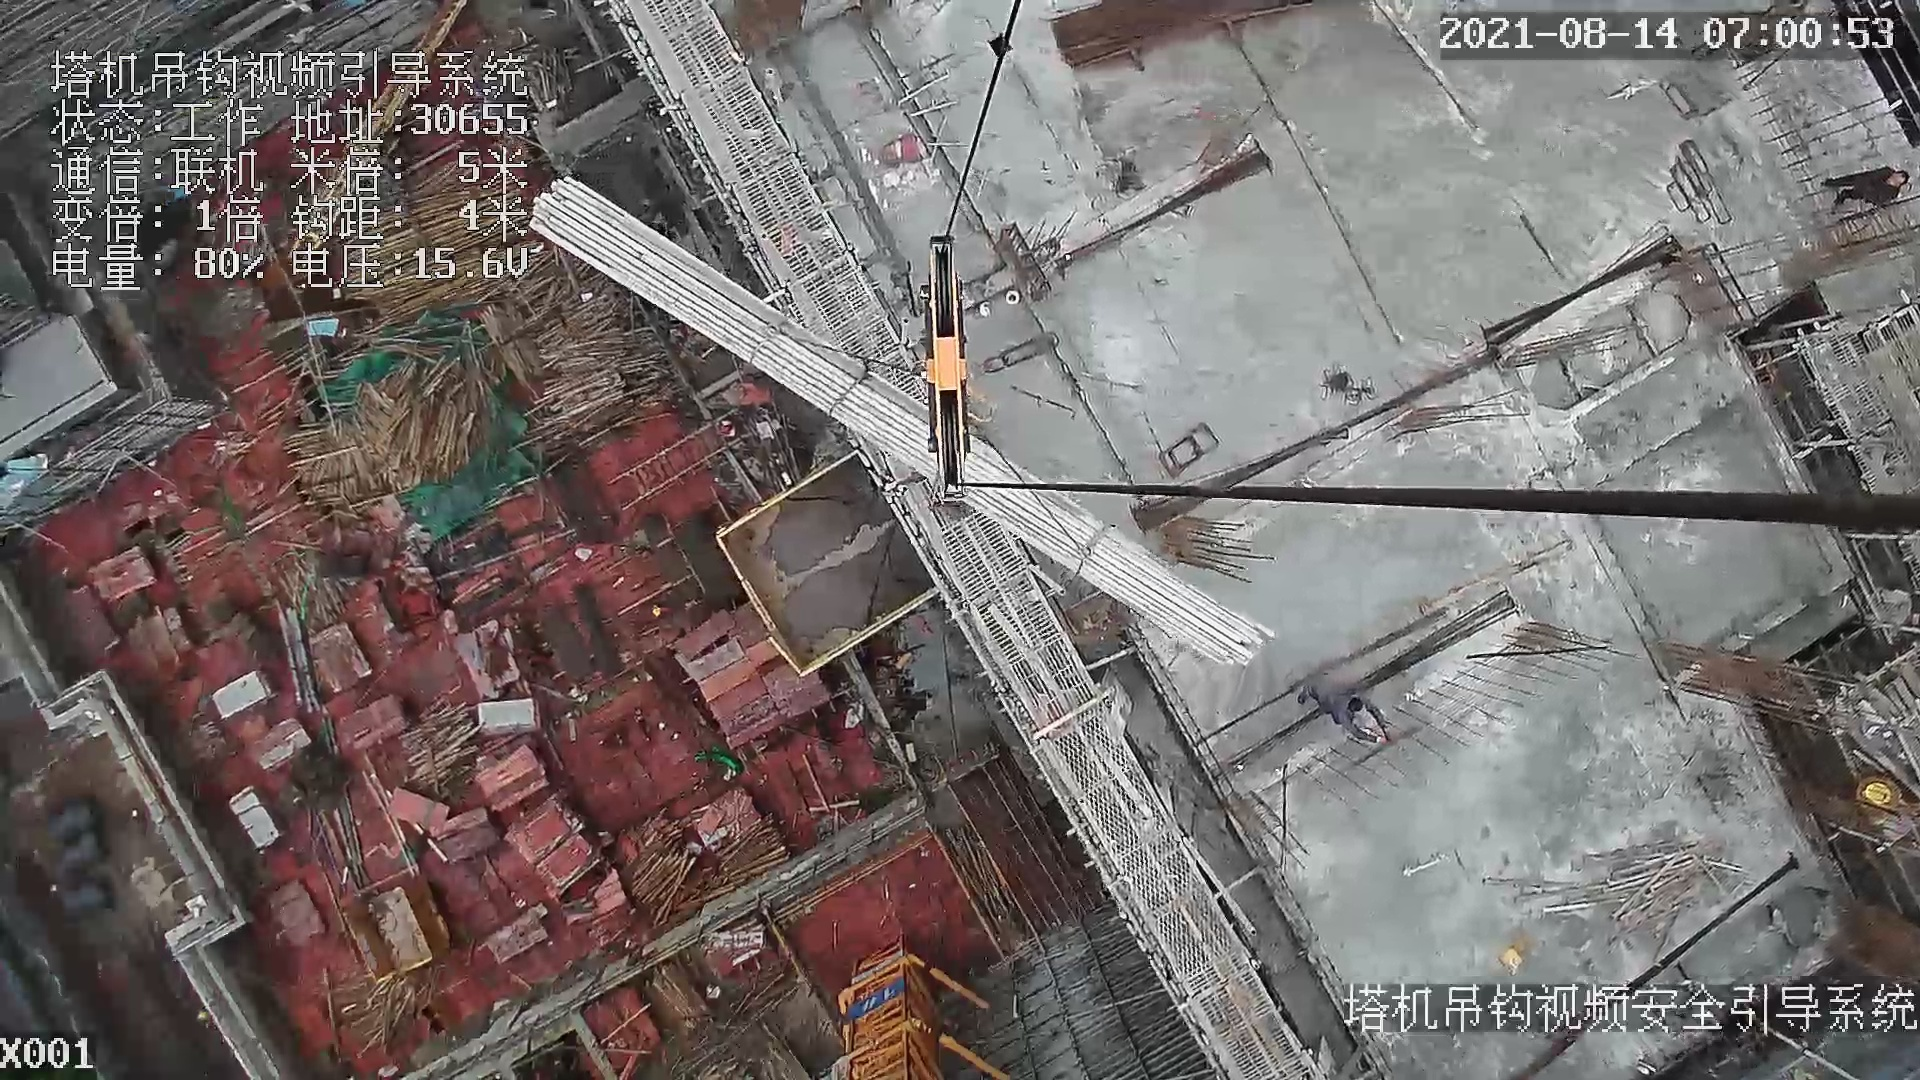hook: (917, 232, 1003, 504)
person: (1288, 673, 1397, 751)
